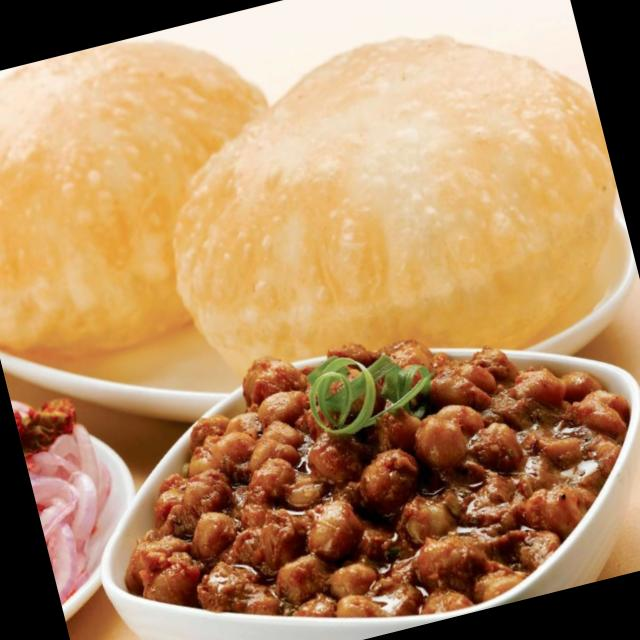Bhatura: (132, 0, 640, 426), (0, 9, 317, 376)
Chole: (78, 274, 640, 640)
